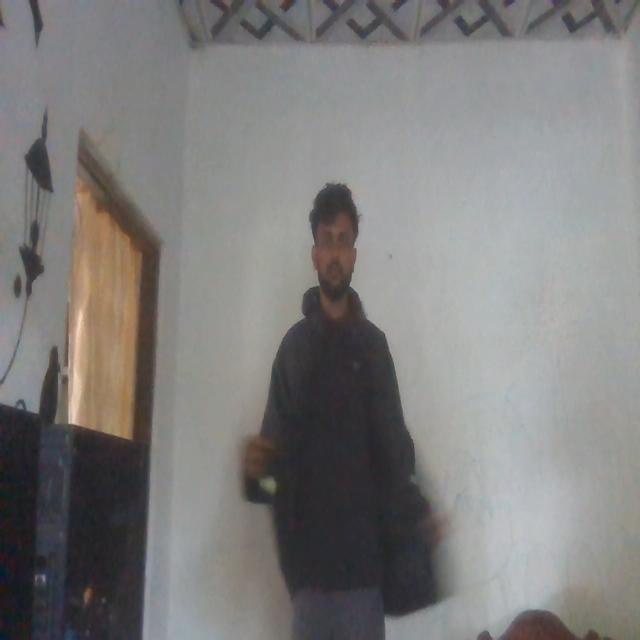Jacket_Wearer: (256, 297, 416, 599)
Person: (249, 179, 430, 640)
